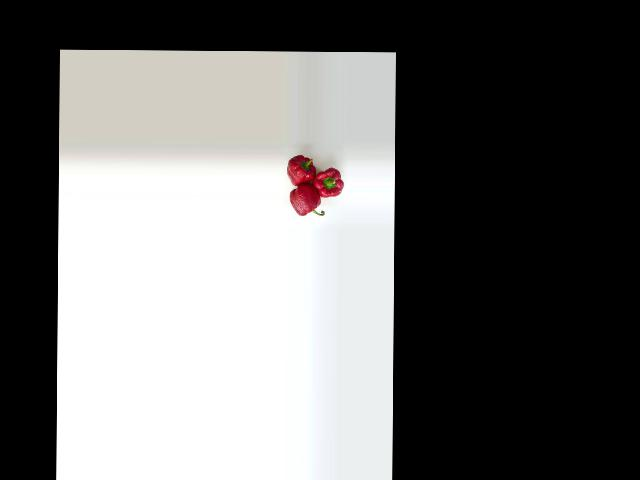bell_pepper: (287, 186, 326, 223)
